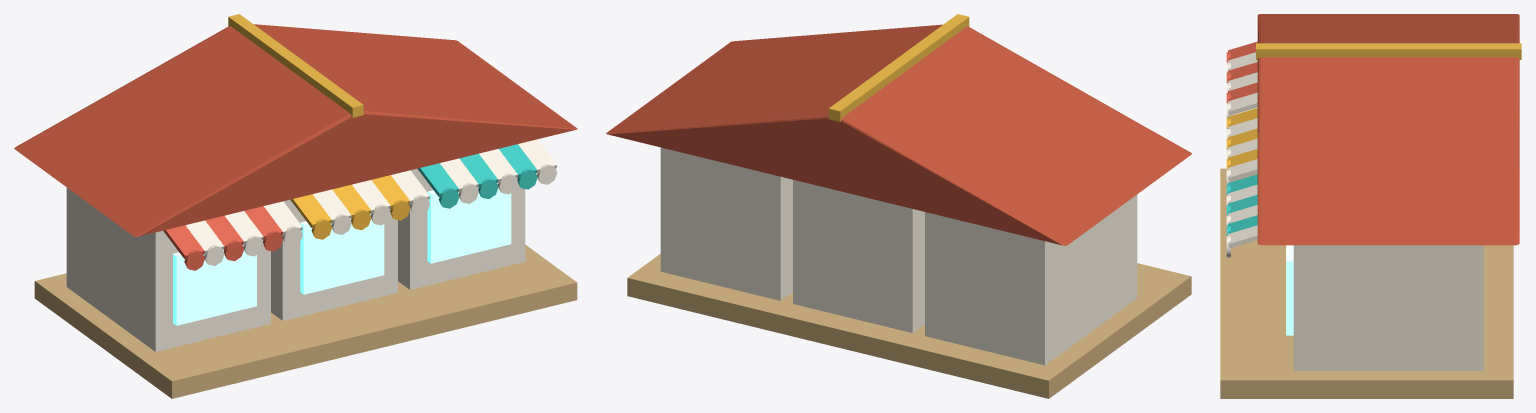
Rendered from market-plaza.glb.
3 renders of one model, left to right at view 1: azimuth 30°, elevation 25°; view 2: azimuth 150°, elevation 25°; view 3: azimuth 270°, elevation 25°, orthographic. The views are drawn at different scales.
Visible parts, largest first — view 1: Mesh_terracotta, Mesh_warmWhite, Mesh_sandStone, Mesh_glowCyan, Mesh_mango, Mesh_turquoise, Mesh_coral, Mesh_gold; view 2: Mesh_terracotta, Mesh_warmWhite, Mesh_sandStone, Mesh_gold; view 3: Mesh_terracotta, Mesh_warmWhite, Mesh_sandStone, Mesh_gold, Mesh_mango, Mesh_turquoise, Mesh_coral, Mesh_glowCyan.
Part boxes in pixels (box(x1,y1,x2,y2)): Mesh_terracotta: box(14, 24, 577, 236); Mesh_warmWhite: box(66, 139, 557, 351); Mesh_sandStone: box(34, 245, 577, 398); Mesh_glowCyan: box(173, 183, 511, 325); Mesh_mango: box(290, 175, 410, 239); Mesh_turquoise: box(418, 144, 537, 208); Mesh_coral: box(163, 206, 283, 270); Mesh_gold: box(228, 14, 363, 117); Mesh_terracotta: box(606, 24, 1191, 245); Mesh_warmWhite: box(660, 147, 1137, 365); Mesh_sandStone: box(627, 254, 1191, 398); Mesh_gold: box(828, 14, 969, 121); Mesh_terracotta: box(1257, 14, 1519, 245); Mesh_warmWhite: box(1226, 52, 1483, 370); Mesh_sandStone: box(1220, 168, 1513, 398); Mesh_gold: box(1256, 43, 1521, 59); Mesh_mango: box(1226, 108, 1257, 169); Mesh_turquoise: box(1226, 174, 1257, 235); Mesh_coral: box(1226, 41, 1257, 103); Mesh_glowCyan: box(1286, 245, 1293, 335).
Size of the model in its own units: 6.34 by 3.16 by 3.49.
